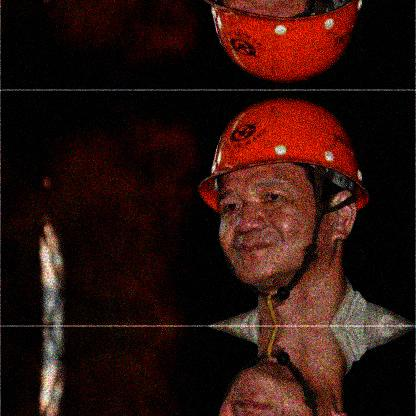helmet: (200, 97, 374, 281)
